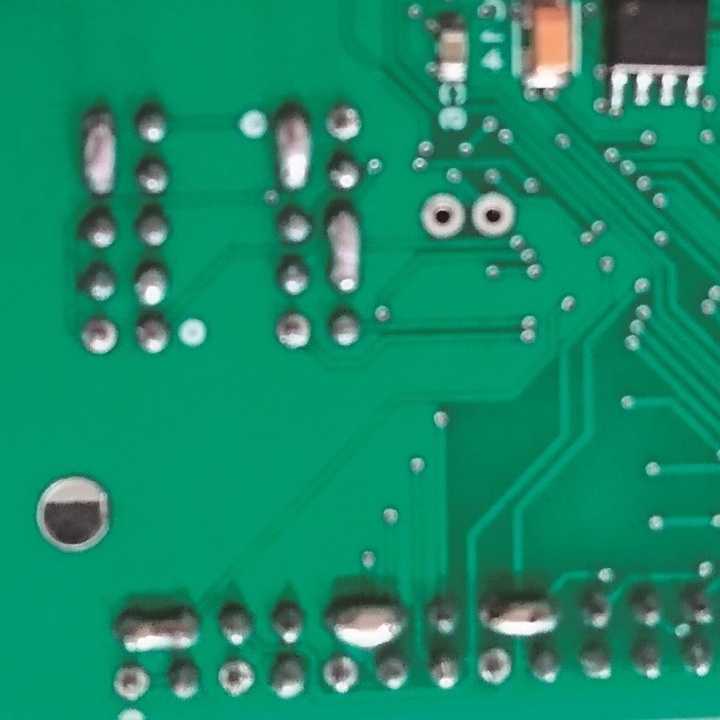F: (470, 192, 515, 239), (421, 195, 464, 240), (109, 660, 153, 703), (474, 649, 517, 692), (321, 653, 361, 696), (79, 315, 119, 357), (273, 309, 310, 350), (214, 658, 255, 695), (326, 103, 361, 143)
P: (323, 202, 366, 295), (480, 595, 562, 640), (329, 603, 411, 645), (118, 609, 199, 651), (82, 109, 119, 196), (276, 108, 310, 193)
